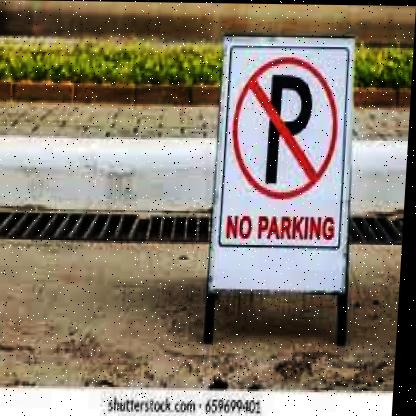No parking: (226, 53, 344, 194)
